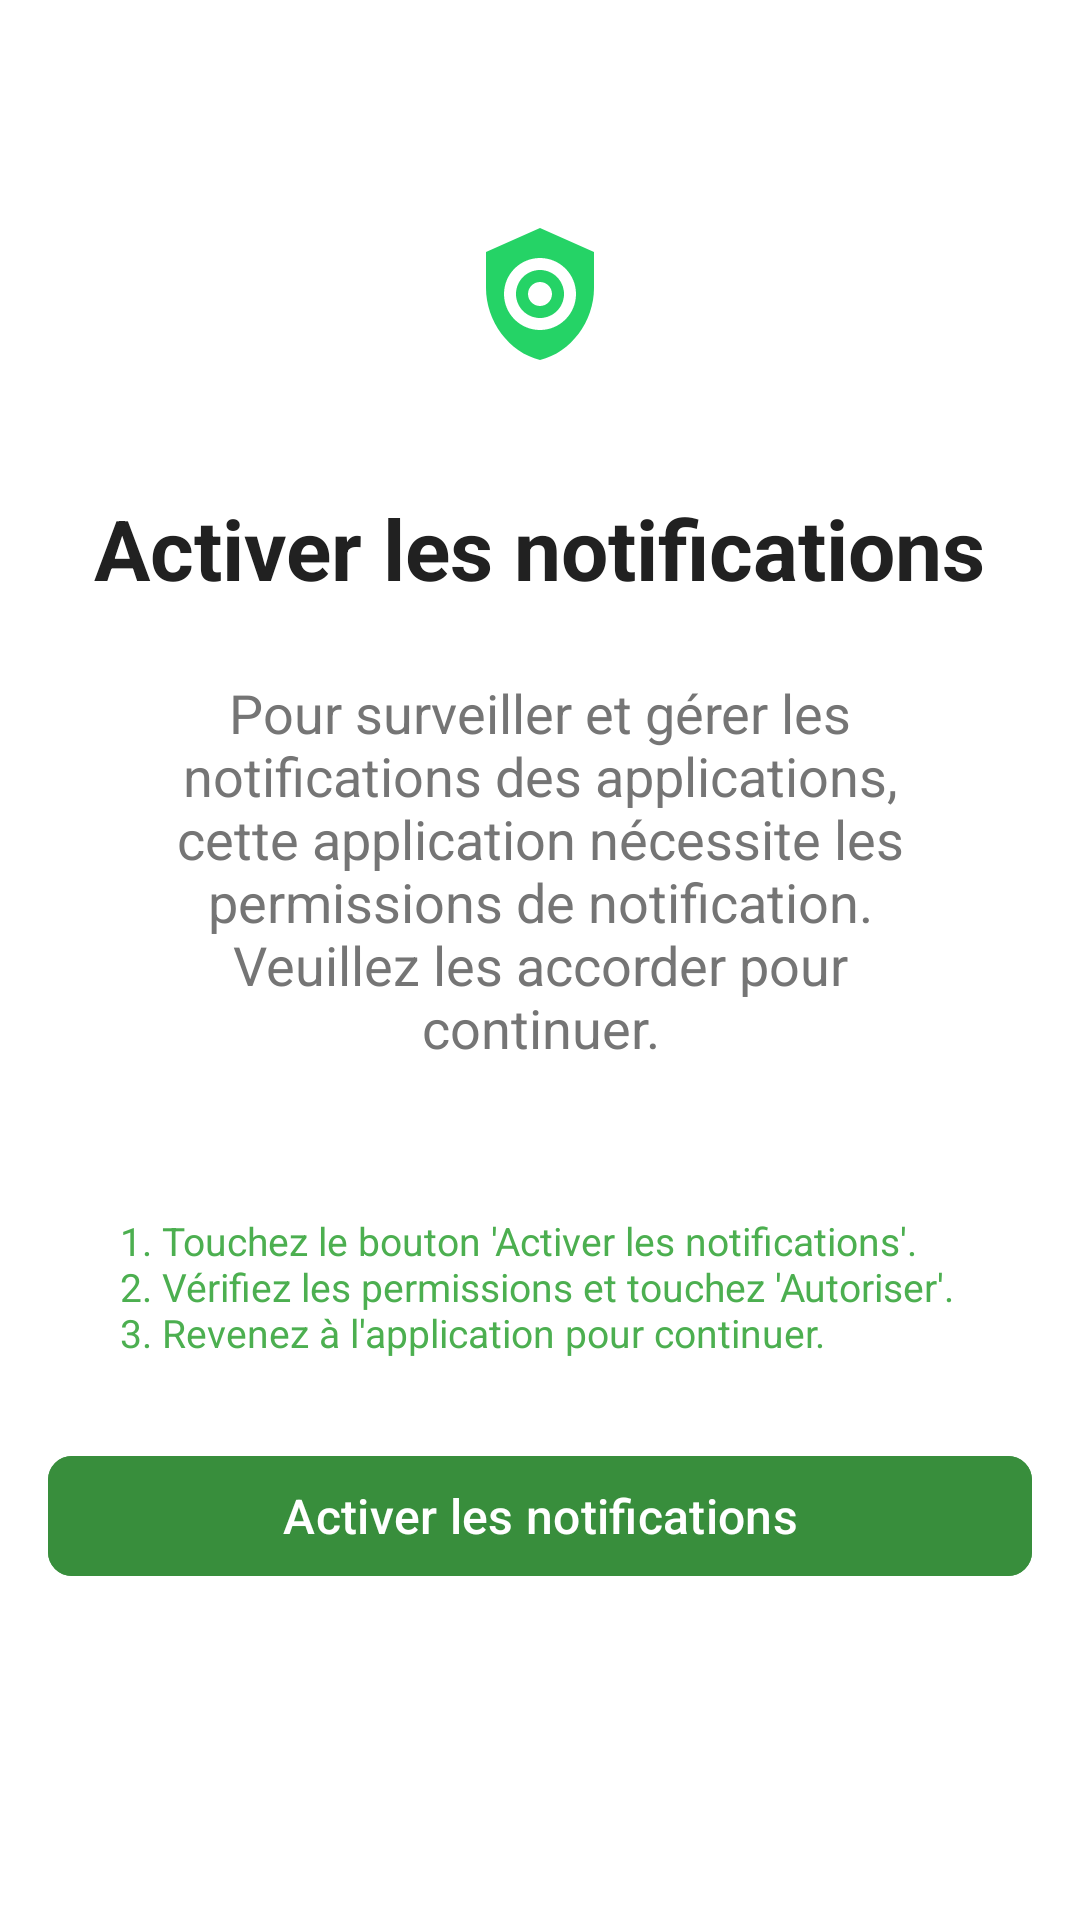

Where icons sit on this 1080×1920 app screen, as bbox(x1, y1, x2, y2):
icône de l'application: bbox(486, 228, 594, 360)
